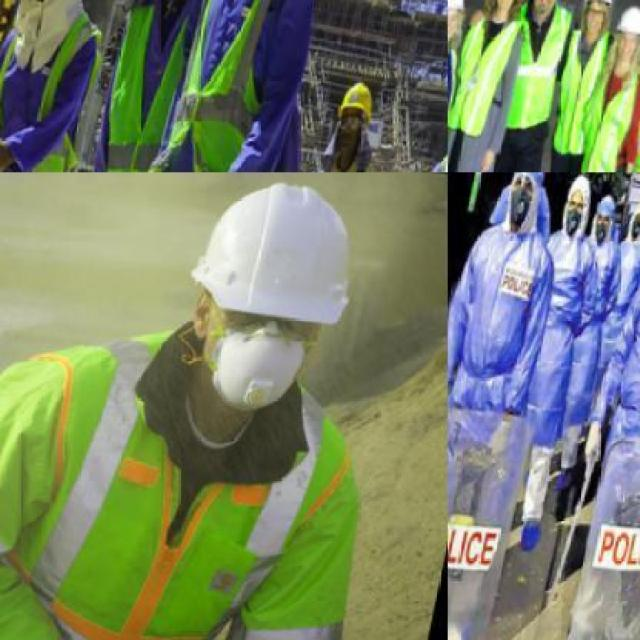Vest: (0, 306, 417, 639), (448, 220, 572, 615), (156, 0, 330, 171), (563, 263, 639, 631), (508, 218, 614, 454), (76, 0, 206, 171), (0, 0, 115, 171), (548, 232, 628, 436), (497, 0, 580, 143), (449, 8, 528, 146), (550, 26, 622, 165), (574, 61, 638, 170), (596, 238, 638, 372), (448, 31, 475, 171)
